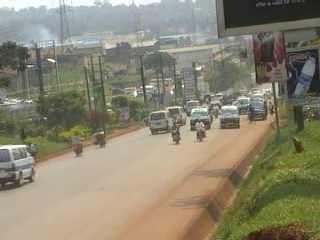Car: (205, 98, 223, 113)
Motorcycle: (67, 134, 85, 160), (93, 133, 109, 149), (193, 125, 206, 142), (169, 128, 180, 145), (209, 106, 219, 119)
